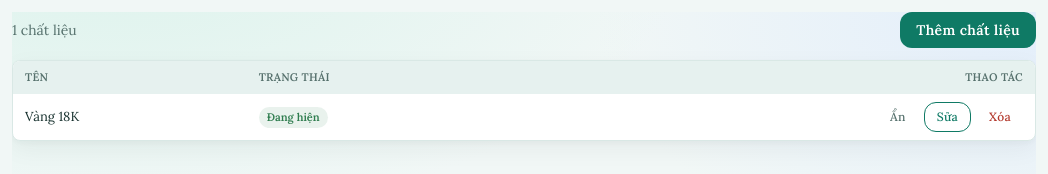
CrudPage › xóa: hộp xác nhận kiểu danger, RESOURCE_IN_USE báo toast và đề nghị ẩn
Click the button with aria-label "Xóa Vàng 18K" at (1000, 117), box x1=977 y1=102 x2=1023 y2=132
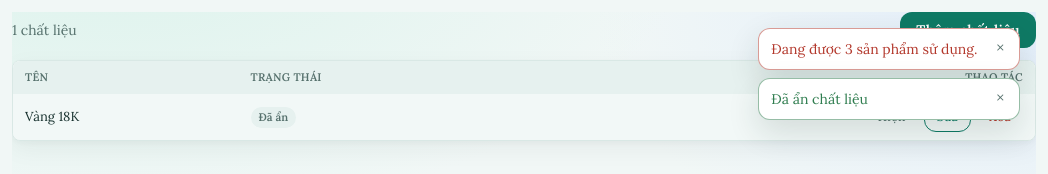
Check: the text "Đang được 3 sản phẩm sử dụng." is shown, box x1=771 y1=39 x2=978 y2=59
